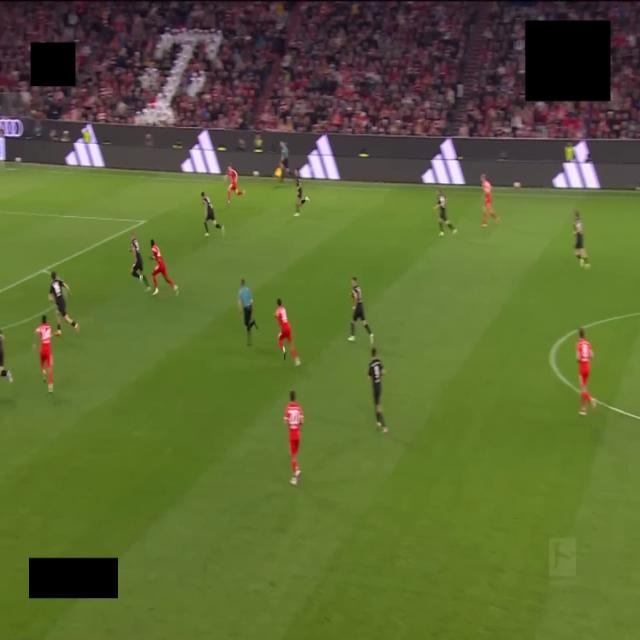ball: (253, 170, 259, 178)
player: (49, 272, 78, 335), (284, 391, 303, 485), (274, 299, 300, 366), (576, 328, 595, 415), (368, 348, 387, 433), (349, 277, 373, 344), (151, 240, 178, 295), (35, 316, 53, 393), (130, 234, 150, 291), (201, 192, 224, 237), (434, 190, 456, 237), (481, 175, 498, 227), (574, 211, 589, 268), (227, 165, 244, 204), (294, 169, 308, 216), (0, 330, 12, 383)
referee: (238, 279, 257, 345)
